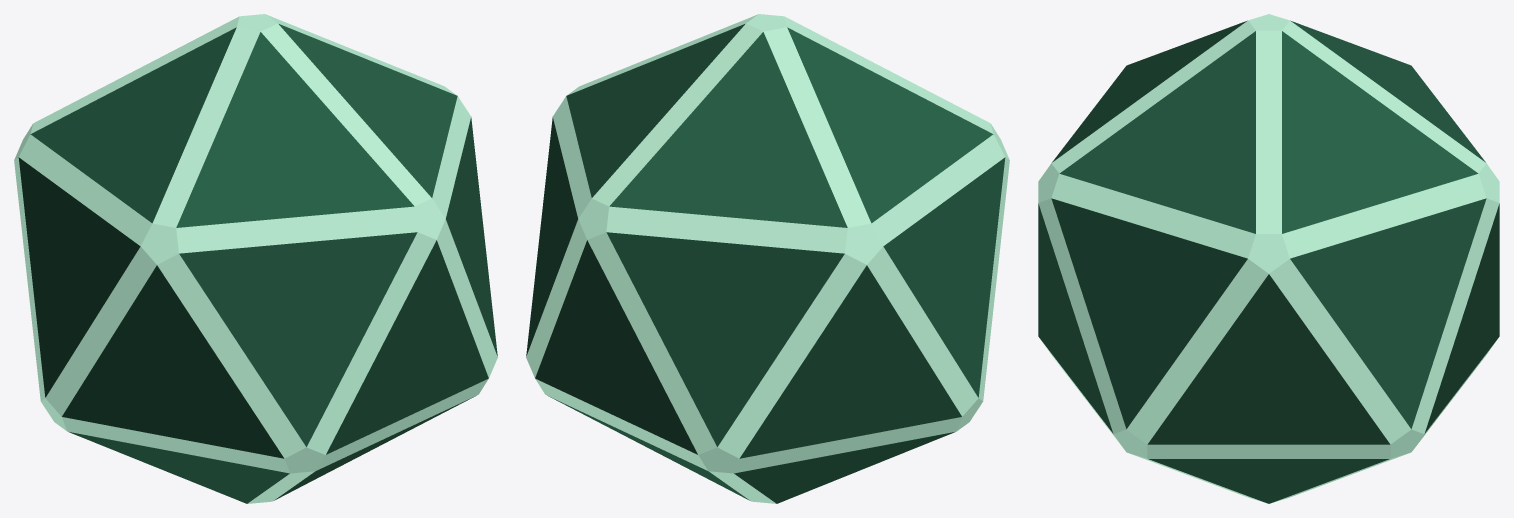
File: BiselledIcosahedron.fbx
3 views of the same model, side by side, from view 1: azimuth 30°, elevation 25°; view 2: azimuth 150°, elevation 25°; view 3: azimuth 270°, elevation 25° (orthographic).
Parts seen in each view (by area): view 1: Esfera geodésica; view 2: Esfera geodésica; view 3: Esfera geodésica.
Boxes of the visible parts, box(x1,y1,x2,y2) form: Esfera geodésica: box(14, 14, 497, 503); Esfera geodésica: box(526, 14, 1009, 503); Esfera geodésica: box(1038, 14, 1499, 503).
Bounding box in the file's own units: 175 × 188 × 167.
